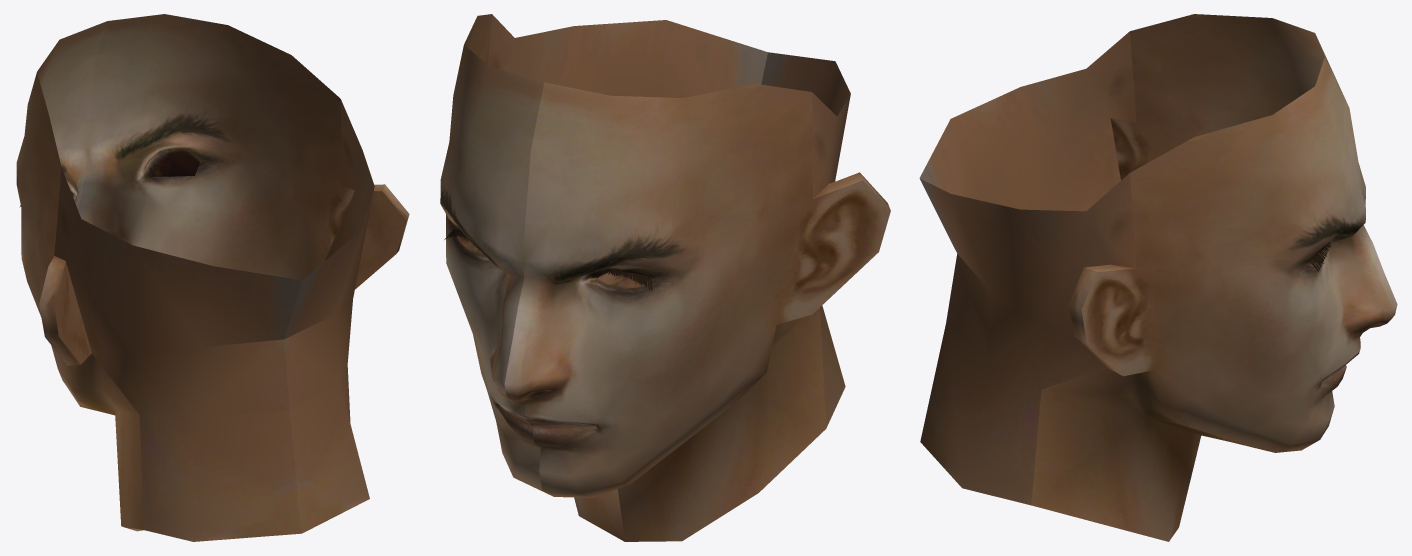
3 renders of one model, left to right at view 1: azimuth 30°, elevation 25°; view 2: azimuth 150°, elevation 25°; view 3: azimuth 270°, elevation 25°, orthographic. The views are drawn at different scales.
Parts seen in each view (by area): view 1: m_head; view 2: m_head; view 3: m_head.
Part boxes in pixels (box(x1,y1,x2,y2)): m_head: box(16, 14, 409, 541); m_head: box(440, 14, 890, 541); m_head: box(919, 14, 1397, 541).
Size of the model in its own units: 16.98 by 19.82 by 18.26.
Materials: 1 (1 with a texture image).
